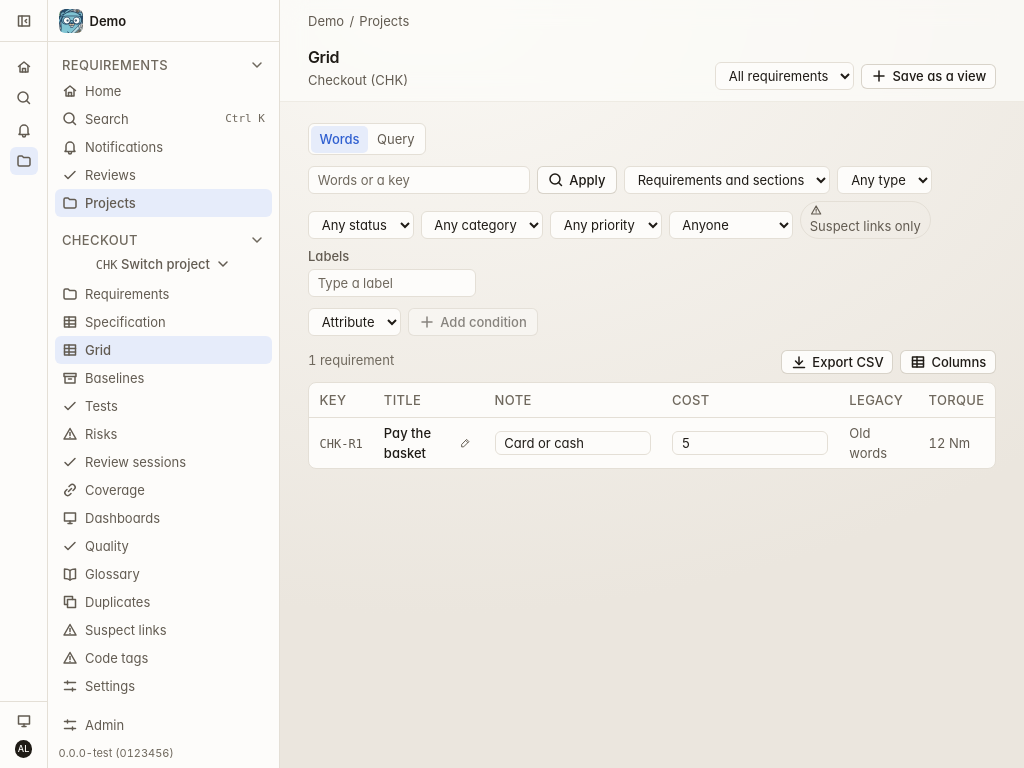
Test case: a title in the grid › says why a save over a newer revision was refused
The width and height of the screenshot is (1024, 768).
Click the button named "Title of CHK-R1" at (465, 443), box [456,434,474,452]
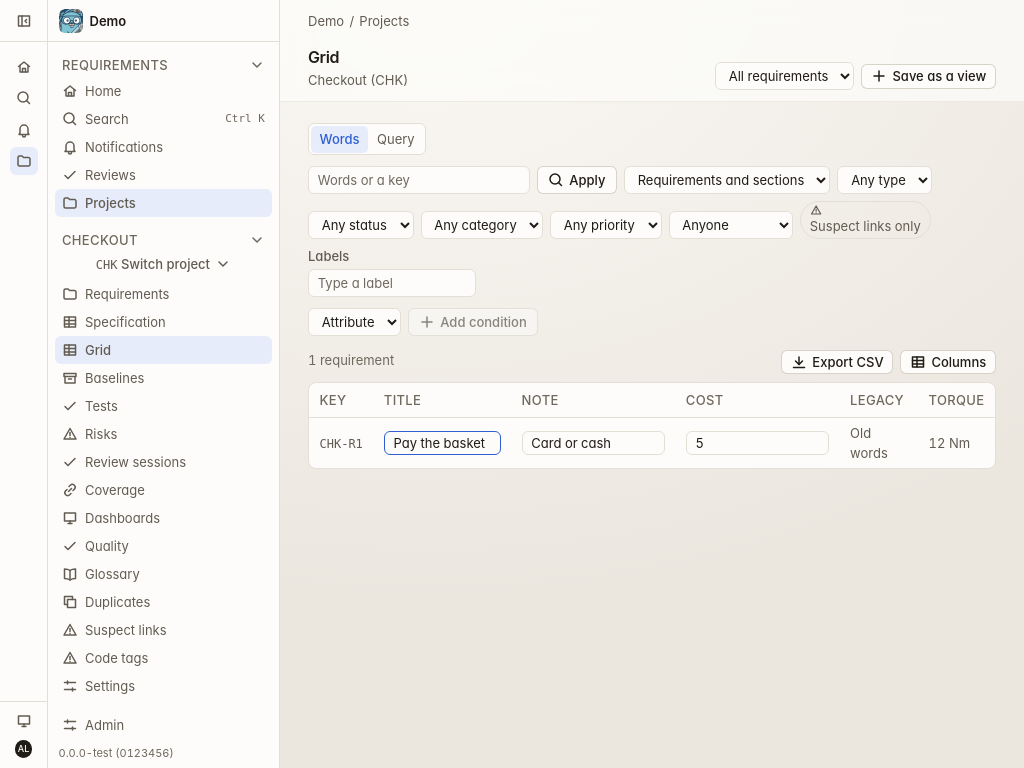
Type keys "{Control>}a{/Control}Pay later{Enter}"
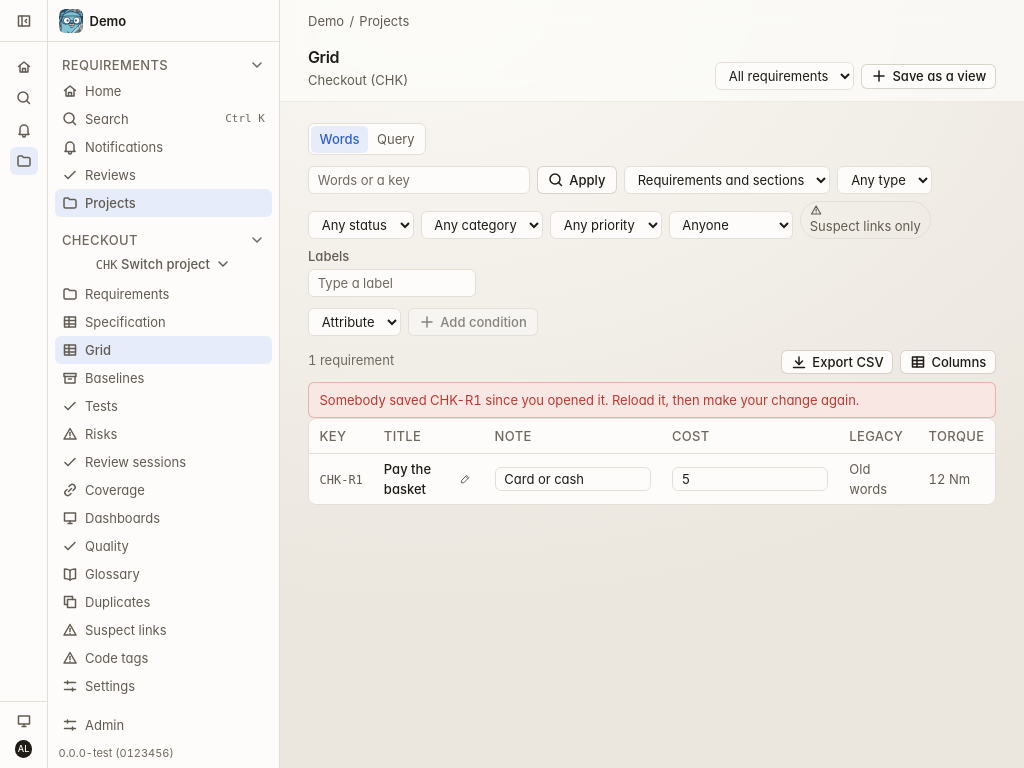
Expected: the 2nd message shows "Somebody saved CHK-R1 since you opened it.", [320,392,859,408]
